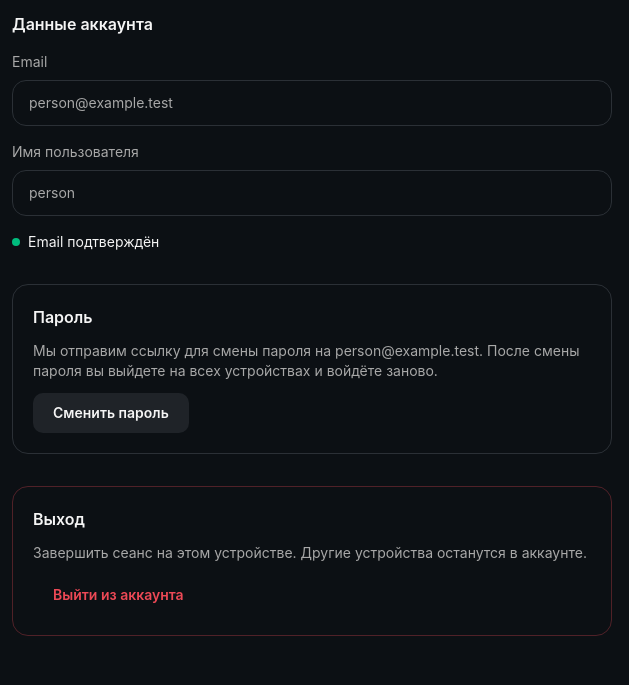
Test case: account and sign-out › shows account data and sends a password change link to the own email
Expected: the field labelled "Email" holds "person@example.test", [12,80,612,126]
Click the button "Сменить пароль".
click(111, 413)  # box [33,393,189,433]
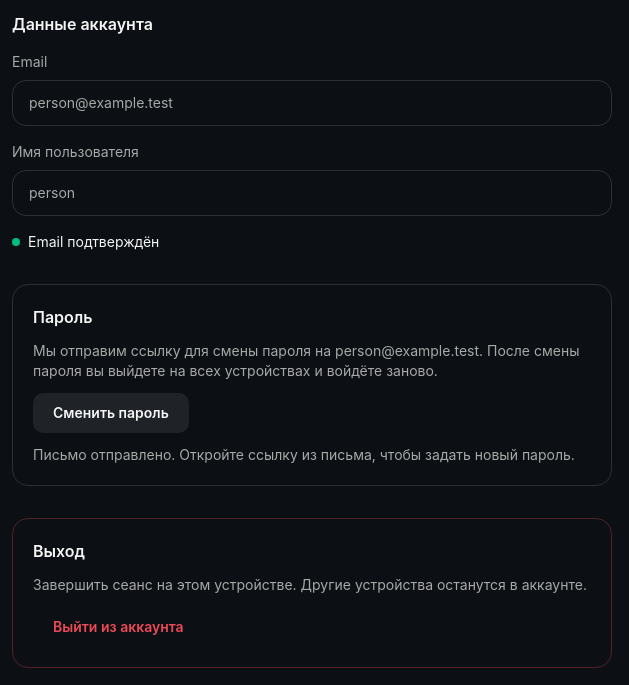
Expected: the text "Письмо отправлено. Откройте ссылку из письма, чтобы задать новый пароль." is shown, [33,445,591,465]
